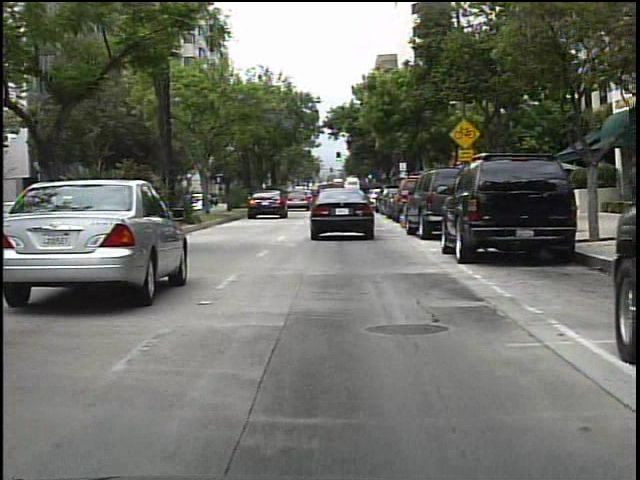car: (4, 167, 195, 312), (447, 153, 575, 266), (300, 179, 380, 243), (404, 168, 452, 236), (244, 186, 287, 222)
